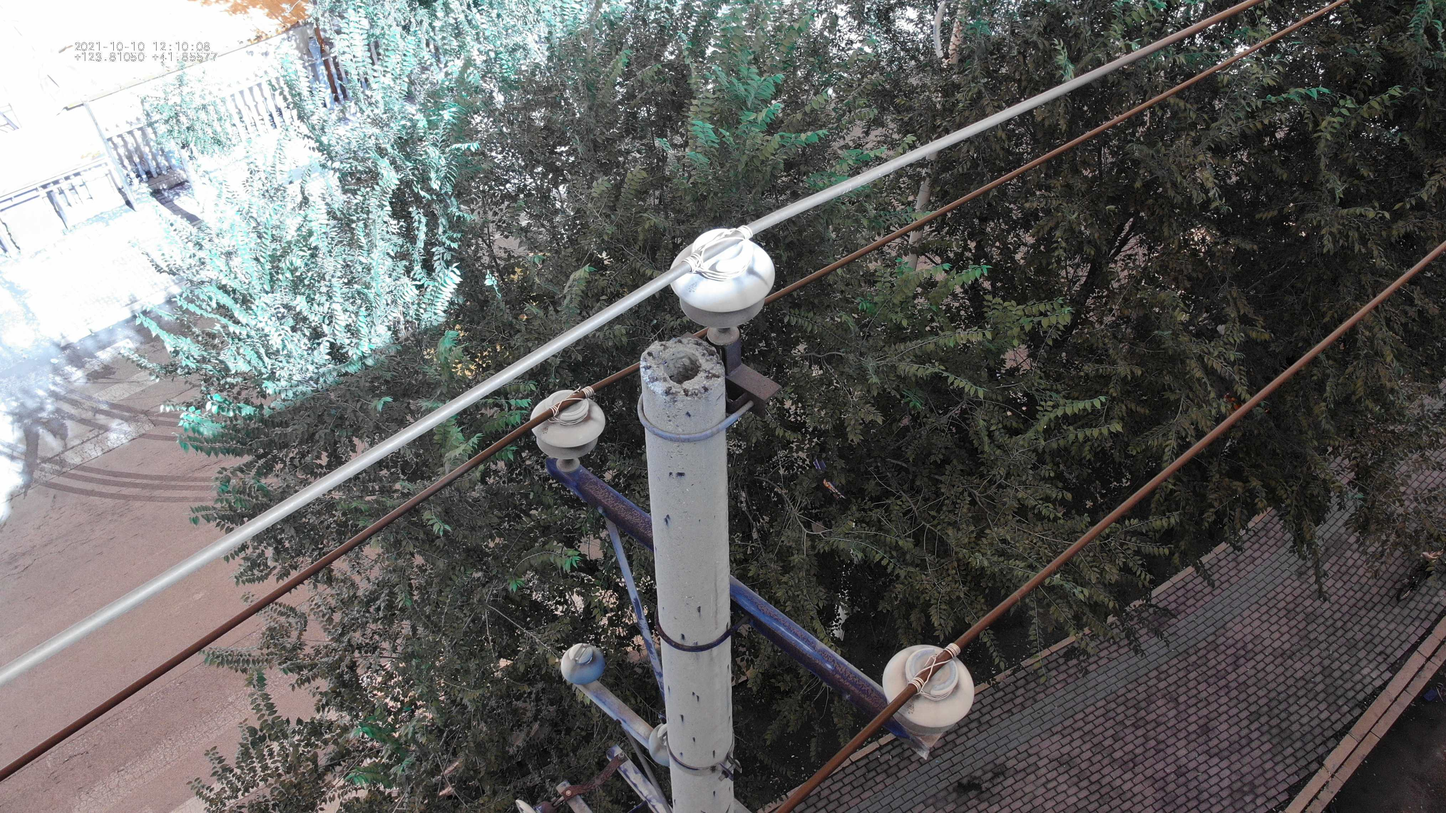severe_soiling_no_discharge_whole: (551, 641, 608, 689)
